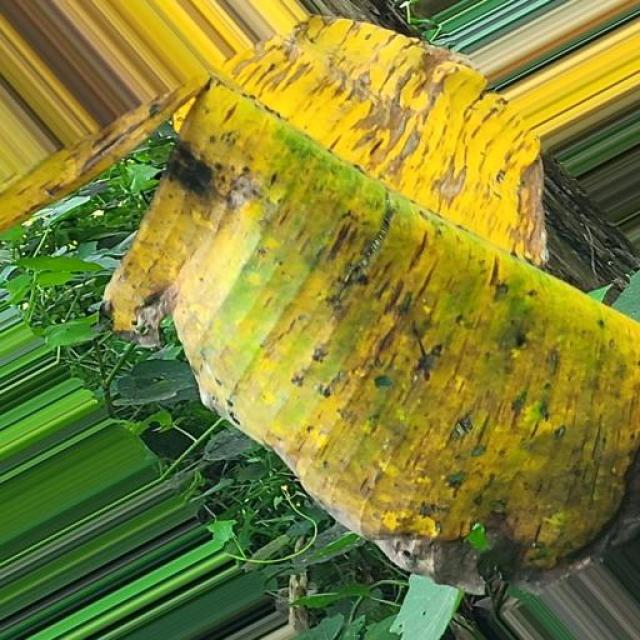Cordana: (103, 15, 626, 577)
